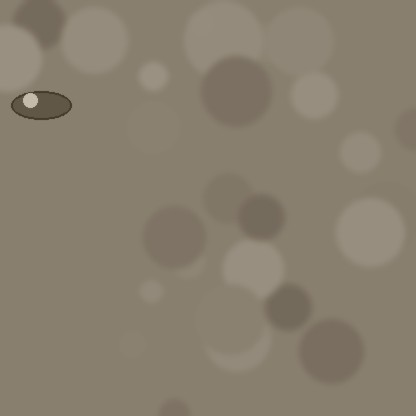gota: (11, 92, 71, 122)
